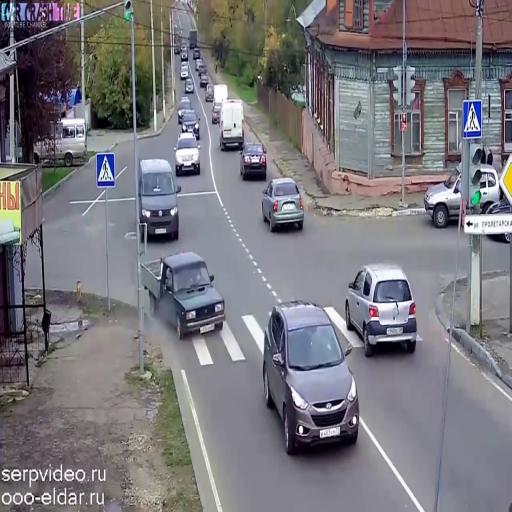小汽车: (262, 302, 360, 448), (143, 251, 227, 334), (346, 263, 418, 354), (424, 166, 500, 227), (140, 157, 178, 239), (34, 117, 86, 164), (262, 178, 306, 233), (219, 101, 247, 149), (240, 142, 269, 180), (176, 132, 202, 172), (182, 108, 204, 138), (188, 26, 200, 50), (178, 61, 191, 78), (198, 71, 210, 89), (180, 46, 190, 64), (184, 78, 196, 92)
